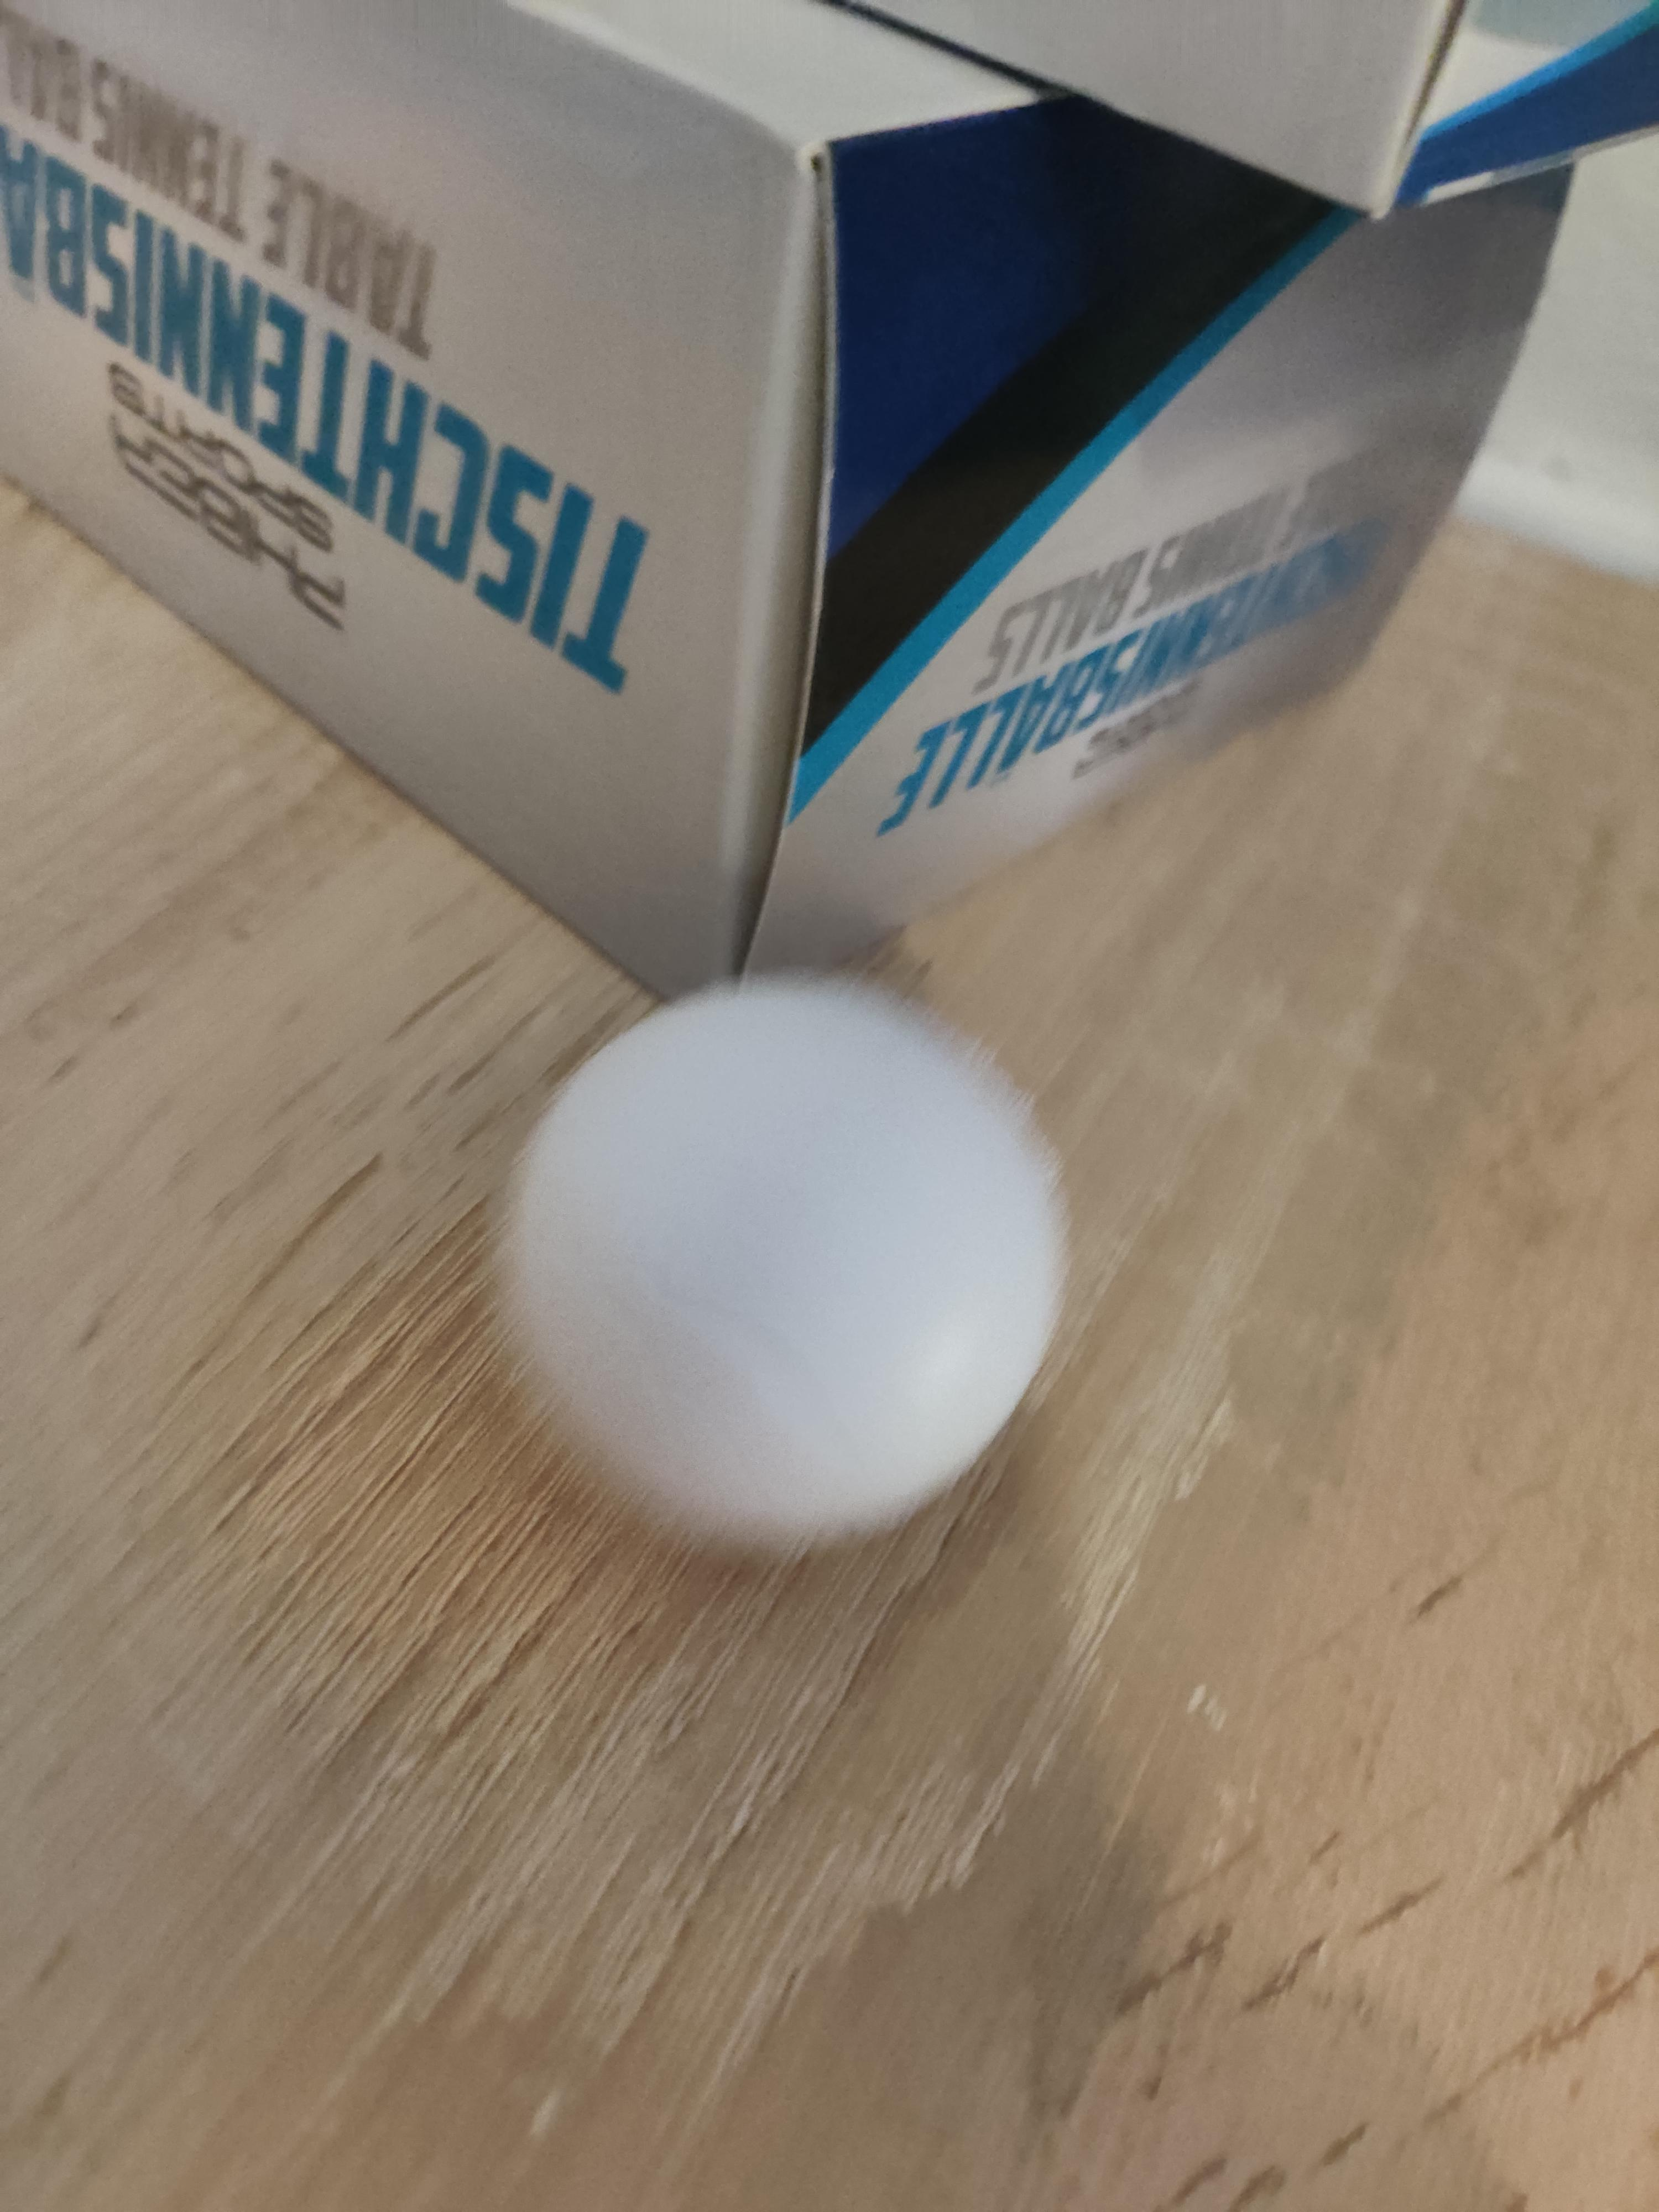white: (490, 972, 1065, 1569)
